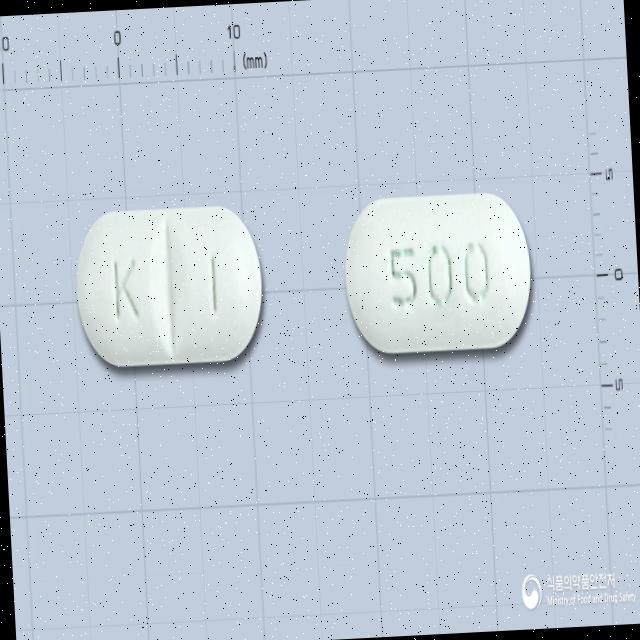Amocla: (338, 182, 540, 364), (69, 196, 272, 376)
